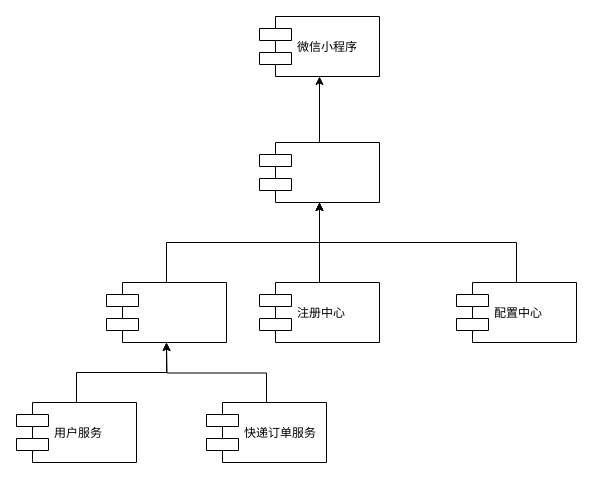
Some shapes in this 593 by 479 pixel diagram are drawn without their labels. The shapes that lost their labels are listed below. From the top down, each one's centre as x and y in pixels, then its label:
At point (319, 172): "后台服务".
At point (166, 312): "MVC".
